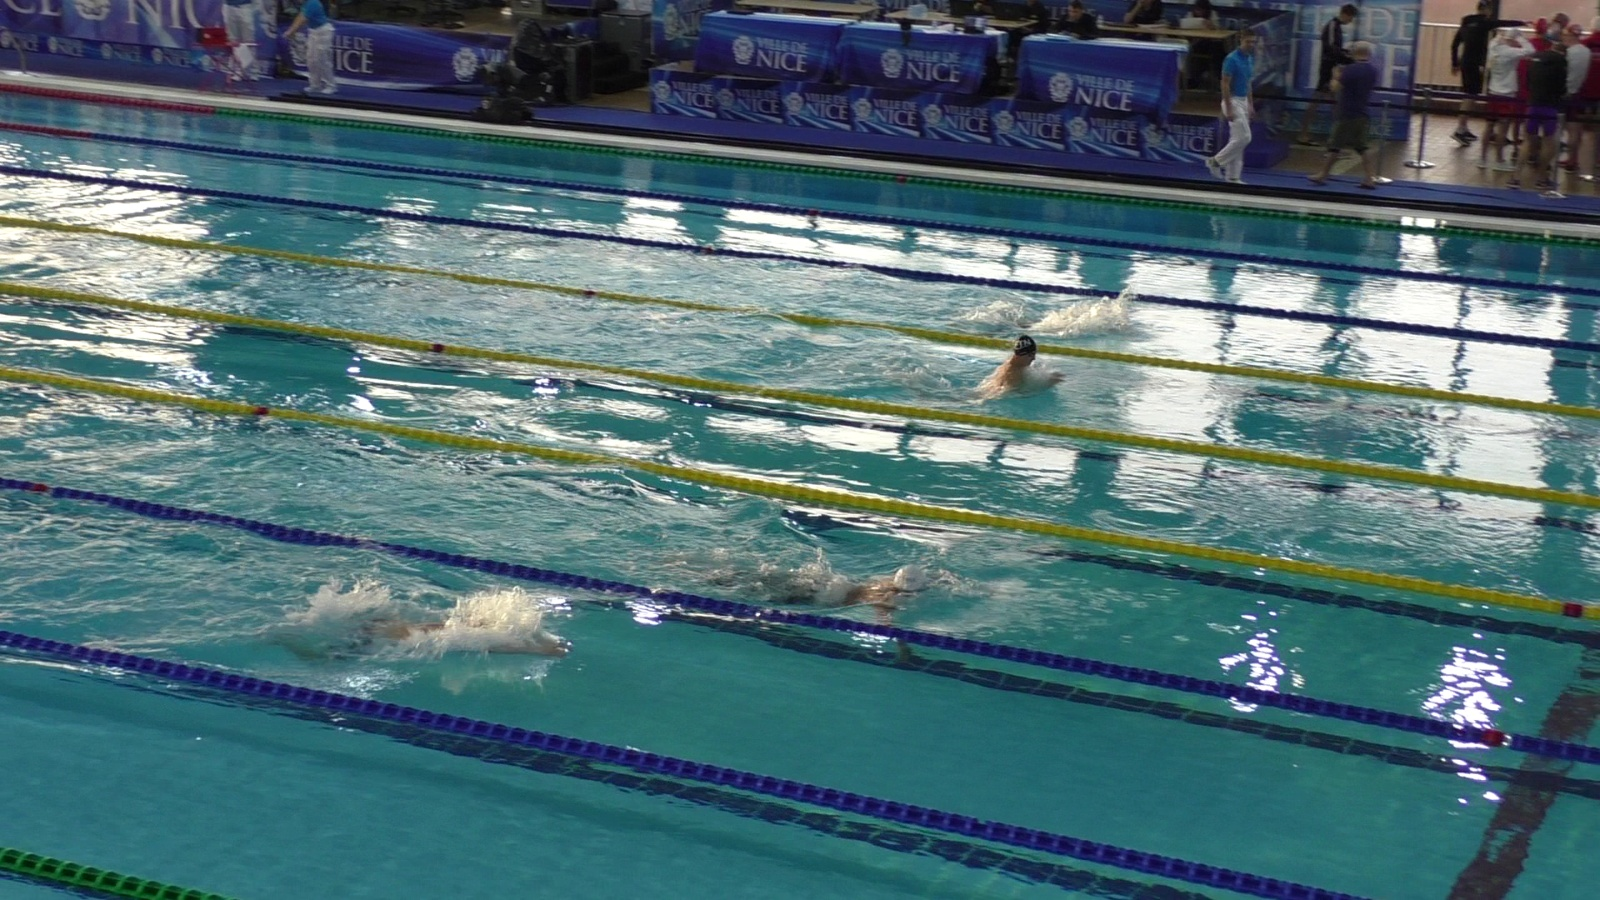swimmerwdd: (699, 562, 923, 663), (307, 600, 574, 676), (898, 336, 1065, 401), (954, 305, 1109, 332)
